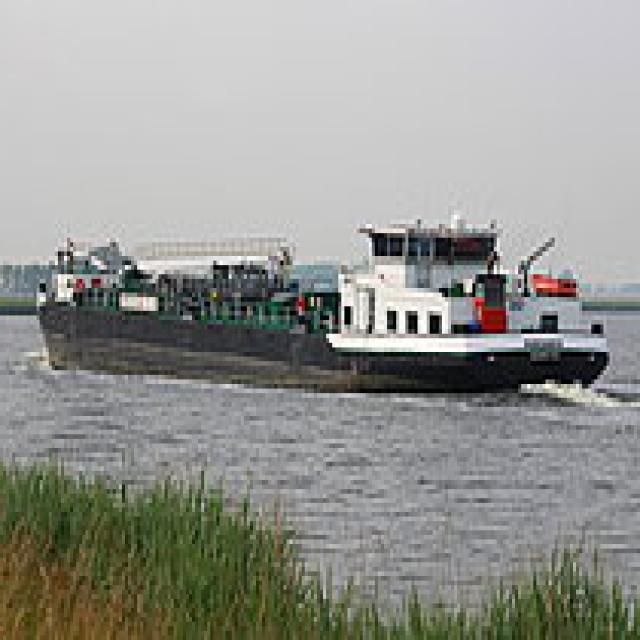Tanker: (39, 201, 616, 393)
